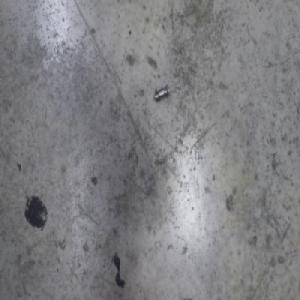Bolt: (155, 82, 170, 101)
